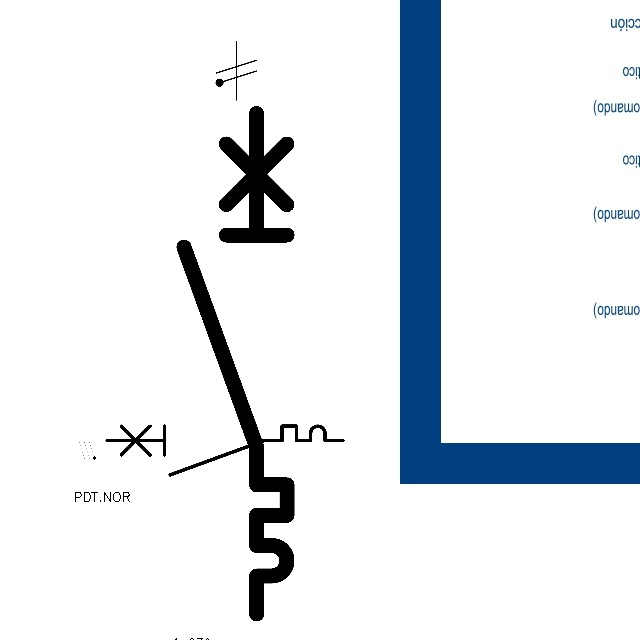interruptor_termomagnetico: (171, 100, 300, 626), (101, 420, 349, 480)
